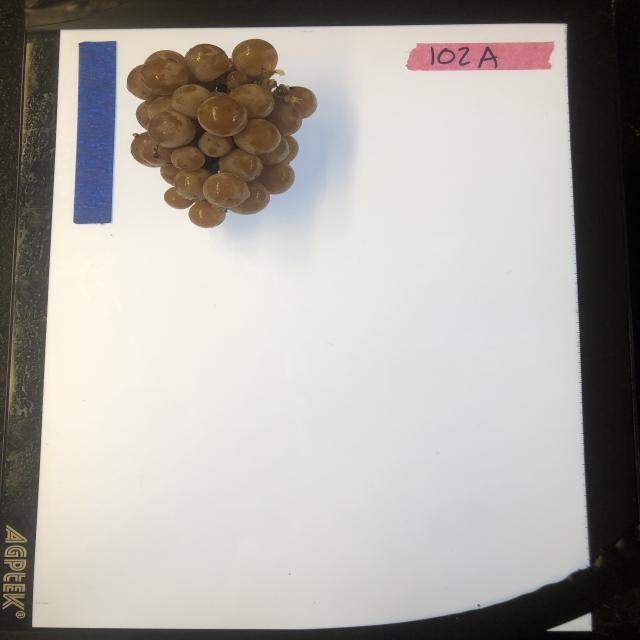grape_cluster: (127, 38, 320, 229)
index: (406, 41, 556, 71)
measure_label: (77, 38, 118, 225)
